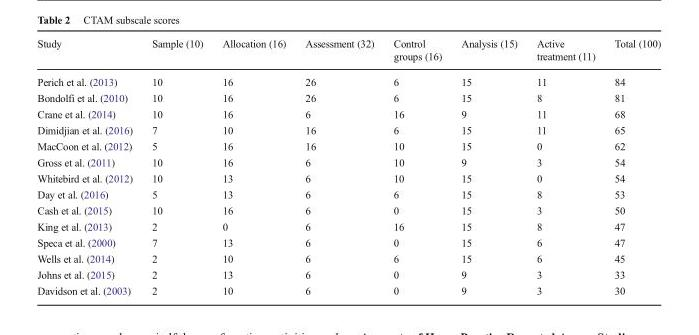table: (36, 37, 660, 296)
table column: (36, 37, 141, 296), (294, 37, 383, 296), (212, 37, 294, 296), (526, 37, 604, 296), (450, 37, 526, 296), (141, 37, 212, 296), (383, 37, 450, 296), (604, 37, 660, 296)
table column header: (36, 37, 660, 68)
table row: (36, 37, 660, 68), (36, 68, 660, 89), (36, 201, 660, 218), (36, 89, 660, 105), (36, 105, 660, 121), (36, 121, 660, 137), (36, 137, 660, 153), (36, 153, 660, 169), (36, 169, 660, 185), (36, 185, 660, 201), (36, 218, 660, 234), (36, 234, 660, 250), (36, 250, 660, 266), (36, 266, 660, 282), (36, 282, 660, 296)
